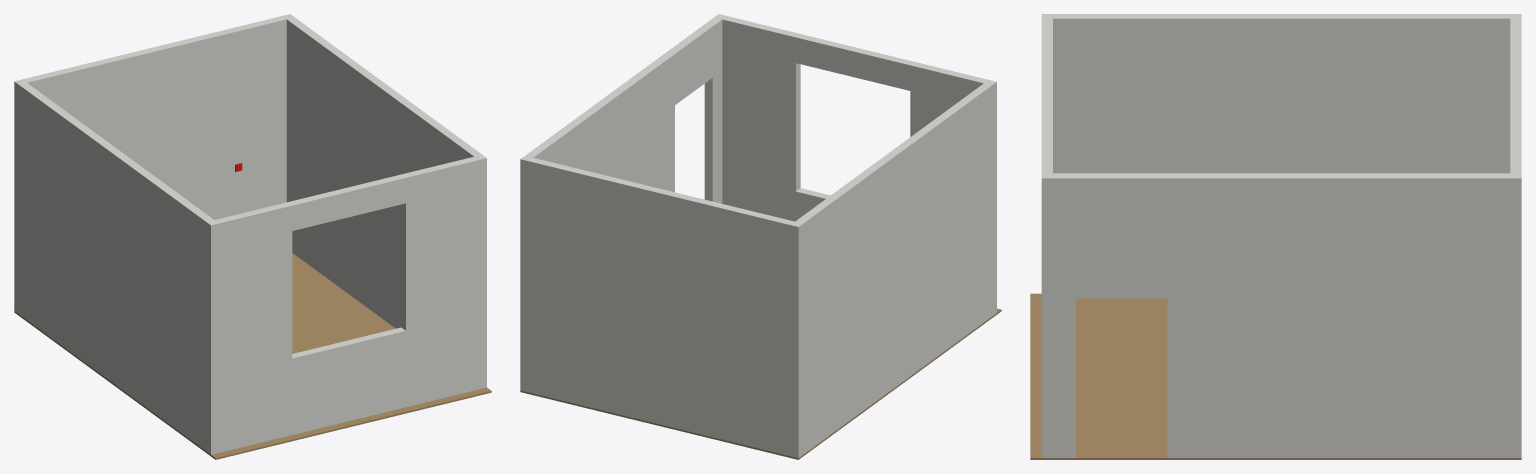
The model's file is komnata_mm.obj.
3 renders of one model, left to right at view 1: azimuth 30°, elevation 25°; view 2: azimuth 150°, elevation 25°; view 3: azimuth 270°, elevation 25°, orthographic. The views are drawn at different scales.
Parts seen in each view (by area): view 1: Stena1, Stena4, Stena3, Stena2, Pol; view 2: Stena3, Stena4, Stena1, Stena2, Pol; view 3: Stena2, Stena4, Pol, Stena3, Stena1.
Part boxes in pixels (<box>): Stena1: <box>206,155,486,454</box>; Stena4: <box>19,83,219,454</box>; Stena3: <box>14,14,294,313</box>; Stena2: <box>286,17,486,388</box>; Pol: <box>14,253,491,459</box>; Stena3: <box>520,156,803,458</box>; Stena4: <box>795,80,996,454</box>; Stena1: <box>714,14,996,314</box>; Stena2: <box>525,14,724,203</box>; Pol: <box>520,308,1001,459</box>; Stena2: <box>1041,173,1510,457</box>; Stena4: <box>1042,14,1510,298</box>; Pol: <box>1030,293,1521,459</box>; Stena3: <box>1510,14,1521,457</box>; Stena1: <box>1041,14,1052,457</box>.
Bounding box in the file's own units: 3400 × 2720 × 4300.
